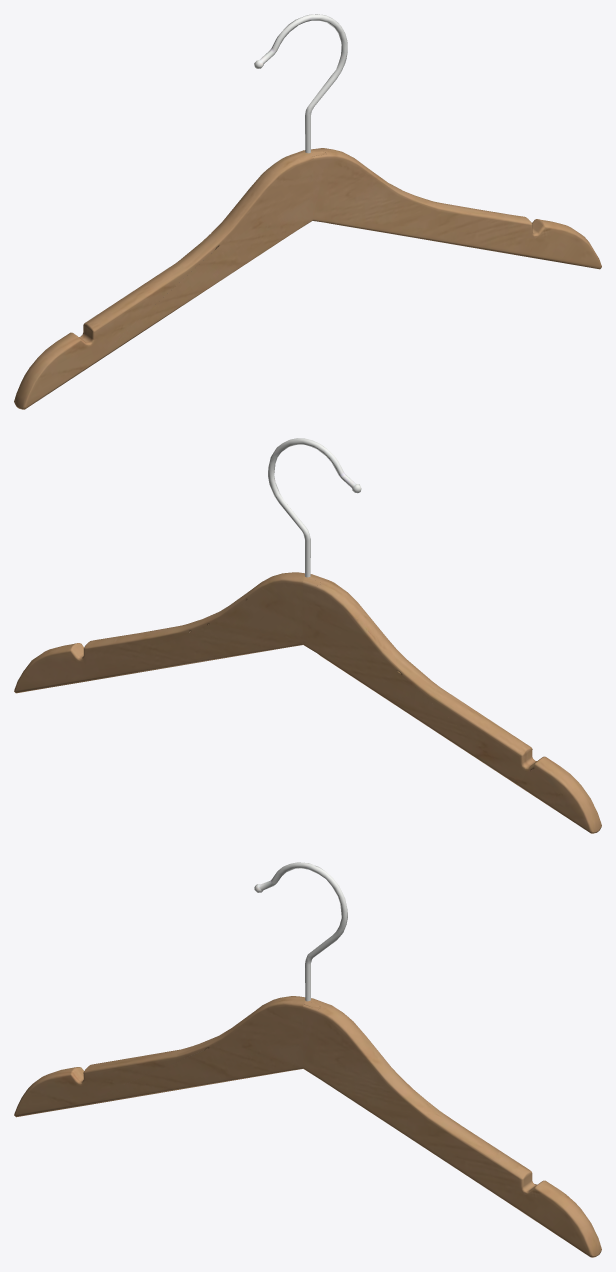
3 views of the same model, one above another, from view 1: azimuth 30°, elevation 25°; view 2: azimuth 150°, elevation 25°; view 3: azimuth 330°, elevation 25° (orthographic).
Parts seen in each view (by area): view 1: 60178769-HÃƒâ€žNGA001; view 2: 60178769-HÃƒâ€žNGA001; view 3: 60178769-HÃƒâ€žNGA001.
Boxes of the visible parts, bbox=[...] form: 60178769-HÃƒâ€žNGA001: bbox=[14, 14, 601, 409]; 60178769-HÃƒâ€žNGA001: bbox=[14, 438, 601, 833]; 60178769-HÃƒâ€žNGA001: bbox=[14, 862, 601, 1257].
Size of the model in its own units: 0.3191 by 0.169 by 0.0101.
1 material, 1 textured.
